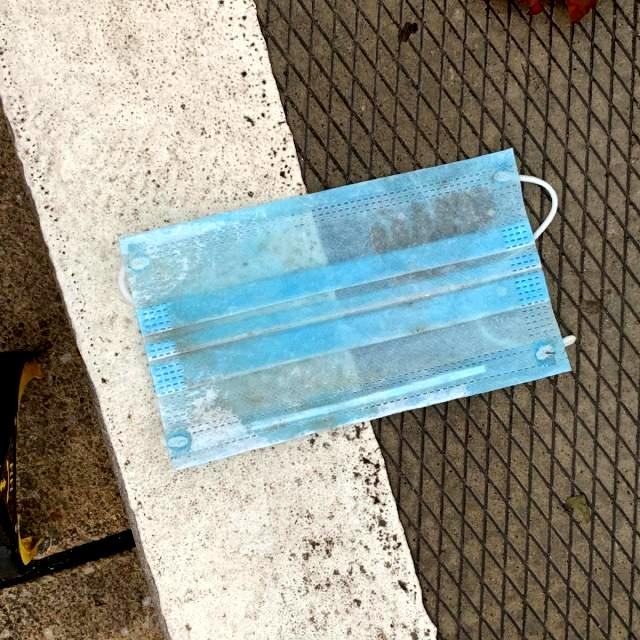Mask: (113, 142, 577, 476)
